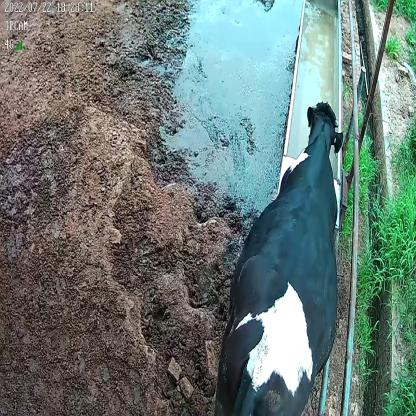cow: (214, 100, 344, 416)
